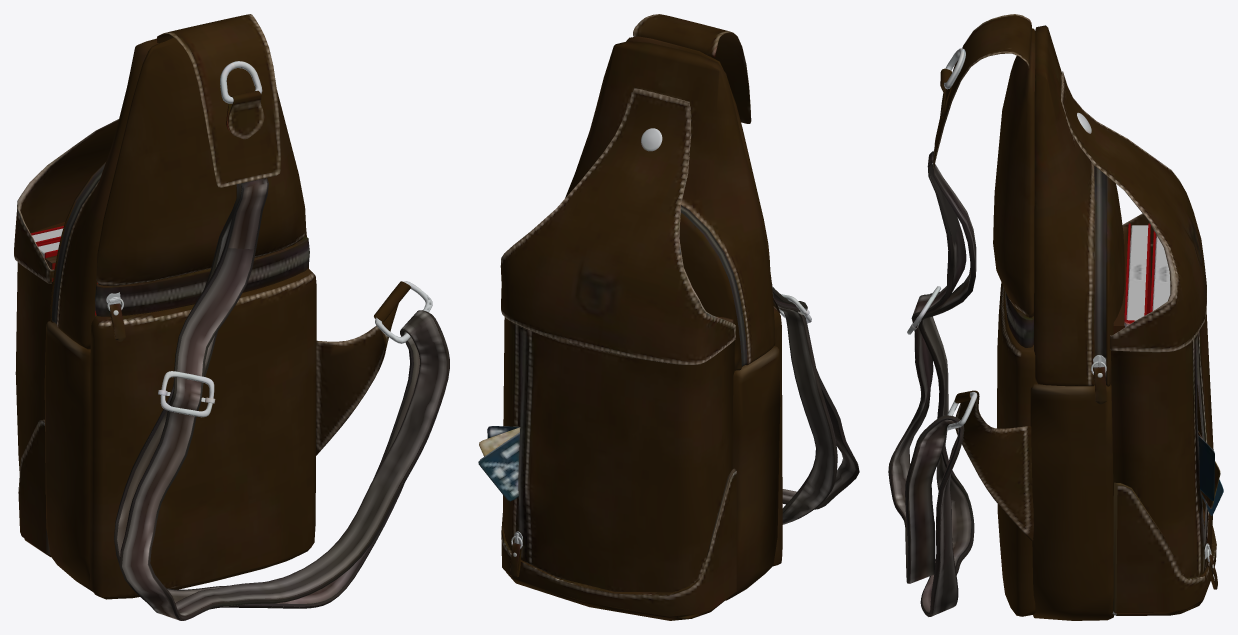
File: crossbody-bag.glb
3 views of the same model, side by side, from view 1: azimuth 30°, elevation 25°; view 2: azimuth 150°, elevation 25°; view 3: azimuth 270°, elevation 25° (orthographic). The views are drawn at different scales.
Parts seen in each view (by area): view 1: defaultMaterial; view 2: defaultMaterial; view 3: defaultMaterial.
Part boxes in pixels (bbox=[...]): defaultMaterial: bbox=[14, 14, 449, 620]; defaultMaterial: bbox=[478, 14, 859, 620]; defaultMaterial: bbox=[888, 14, 1223, 620].
Bounding box in the file's own units: 0.1856 × 0.3 × 0.1656.
Materials: 1 (1 with a texture image).
